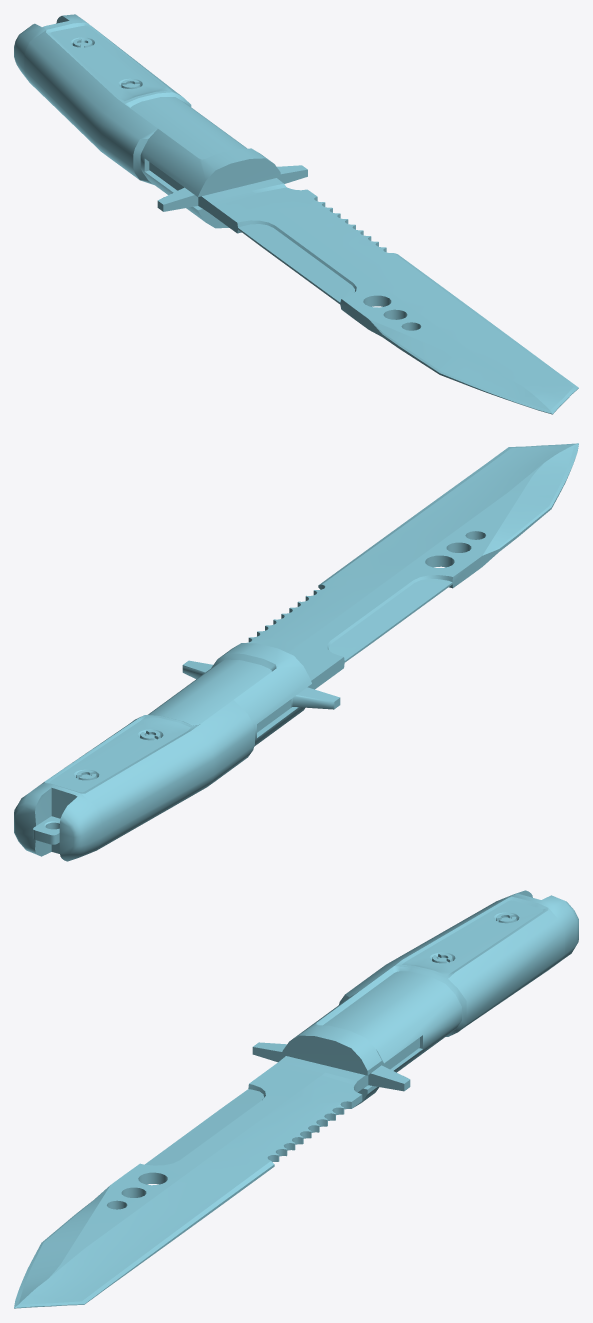
File: bayonet 1.fbx
3 views of the same model, one above another, from view 1: azimuth 30°, elevation 25°; view 2: azimuth 150°, elevation 25°; view 3: azimuth 330°, elevation 25° (orthographic). The views are drawn at different scales.
Parts seen in each view (by area): view 1: TacticalKnife; view 2: TacticalKnife; view 3: TacticalKnife.
Part boxes in pixels (x1=…): TacticalKnife: x1=14, y1=14, x2=578, y2=414; TacticalKnife: x1=14, y1=443, x2=578, y2=861; TacticalKnife: x1=14, y1=890, x2=578, y2=1308.
Size of the model in its own units: 0.0366 by 0.0156 by 0.2251.
